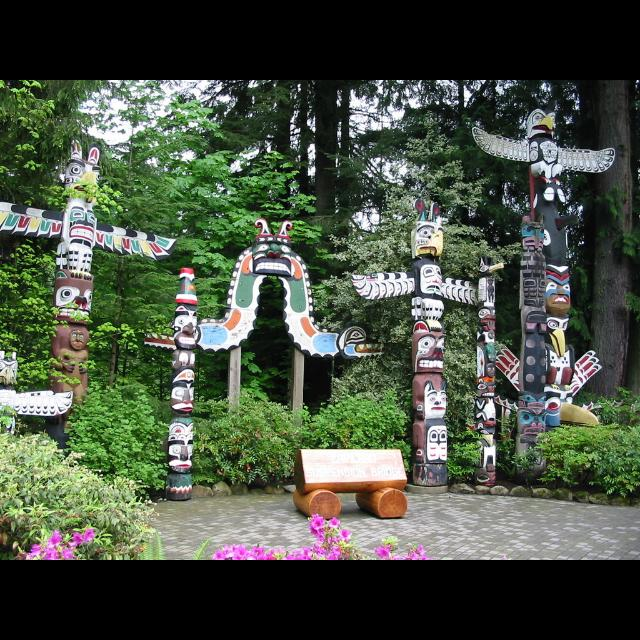Flower: (211, 512, 353, 560), (24, 528, 94, 560), (397, 544, 431, 560), (374, 545, 392, 559)
